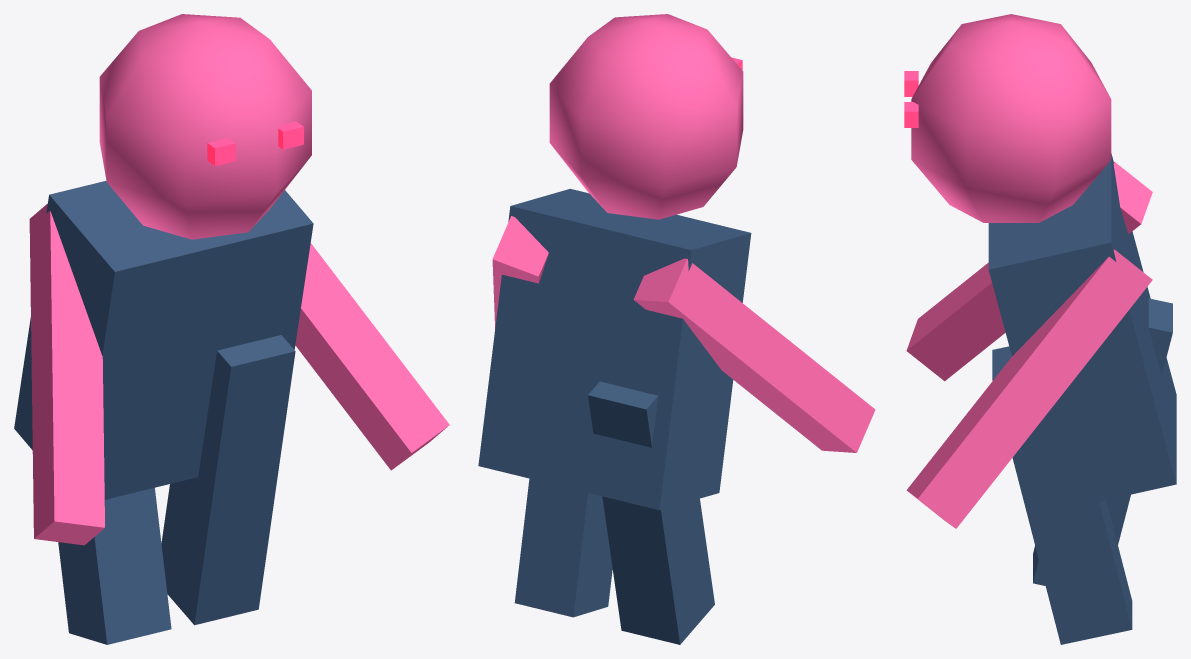
Rendered from runner.glb.
The picture shows the model from 3 angles, left to right: view 1: azimuth 30°, elevation 25°; view 2: azimuth 150°, elevation 25°; view 3: azimuth 270°, elevation 25°; orthographic projection. The views are drawn at different scales.
Parts seen in each view (by area): view 1: body, head, leg_r, arm_l, arm_r, leg_l, eye_l, eye_r; view 2: body, head, arm_l, leg_l, leg_r, arm_r; view 3: body, head, arm_r, leg_r, arm_l, leg_l.
Boxes of the visible parts, x1=… form: body: x1=14, y1=181, x2=313, y2=499; head: x1=99, y1=14, x2=311, y2=239; leg_r: x1=161, y1=335, x2=295, y2=625; arm_l: x1=29, y1=204, x2=104, y2=545; arm_r: x1=295, y1=243, x2=449, y2=470; leg_l: x1=58, y1=487, x2=171, y2=644; eye_l: x1=207, y1=138, x2=235, y2=166; eye_r: x1=278, y1=121, x2=303, y2=149; body: x1=478, y1=188, x2=751, y2=510; head: x1=549, y1=14, x2=743, y2=219; arm_l: x1=633, y1=258, x2=875, y2=452; leg_l: x1=588, y1=381, x2=714, y2=644; leg_r: x1=514, y1=478, x2=612, y2=617; arm_r: x1=492, y1=216, x2=548, y2=328; body: x1=988, y1=153, x2=1176, y2=511; head: x1=911, y1=14, x2=1111, y2=222; arm_r: x1=906, y1=249, x2=1152, y2=528; leg_r: x1=992, y1=346, x2=1132, y2=644; arm_l: x1=906, y1=162, x2=1152, y2=381; leg_l: x1=1033, y1=298, x2=1172, y2=585.
Bounding box in the file's own units: 2.09 × 3.17 × 1.34.
